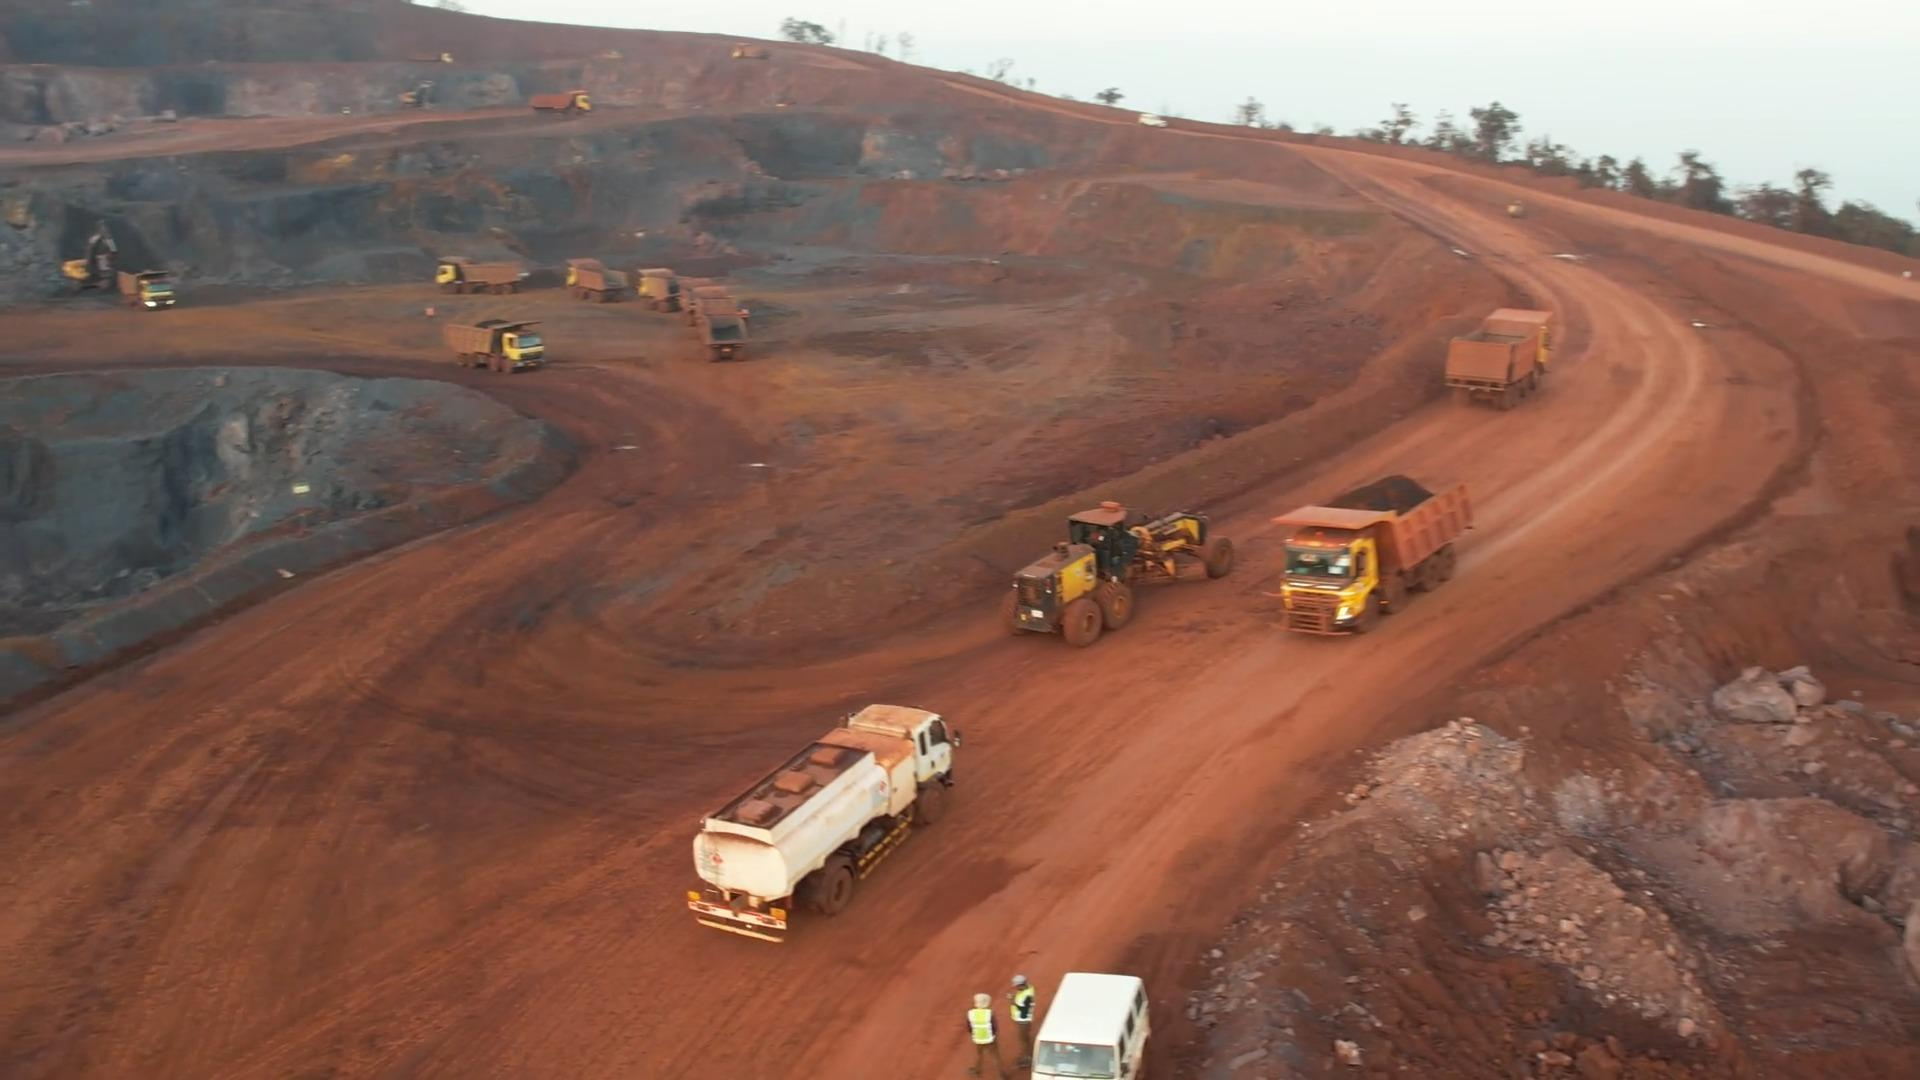excavator: (62, 223, 123, 290)
